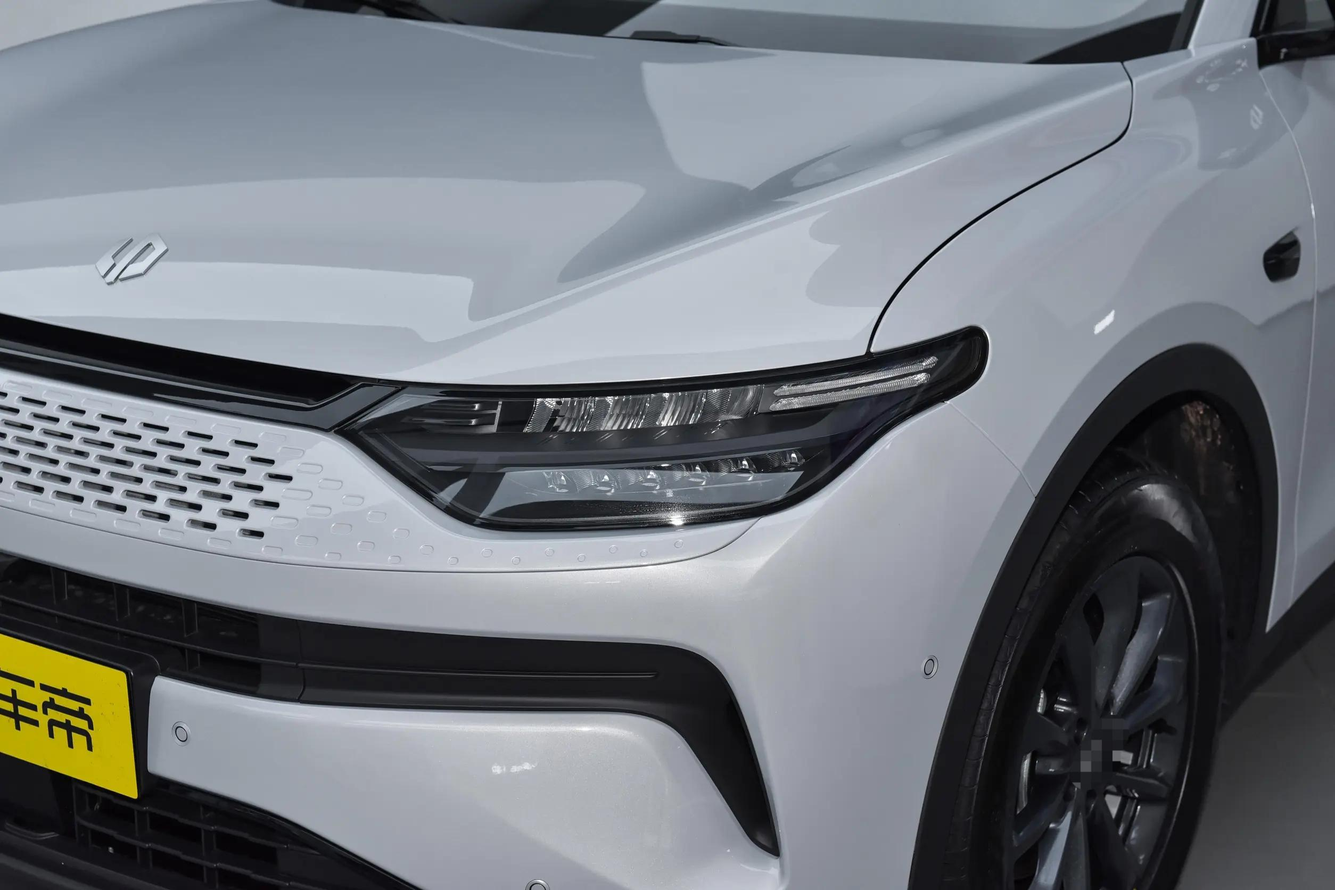LEAPMOTOR: (95, 233, 170, 285)
